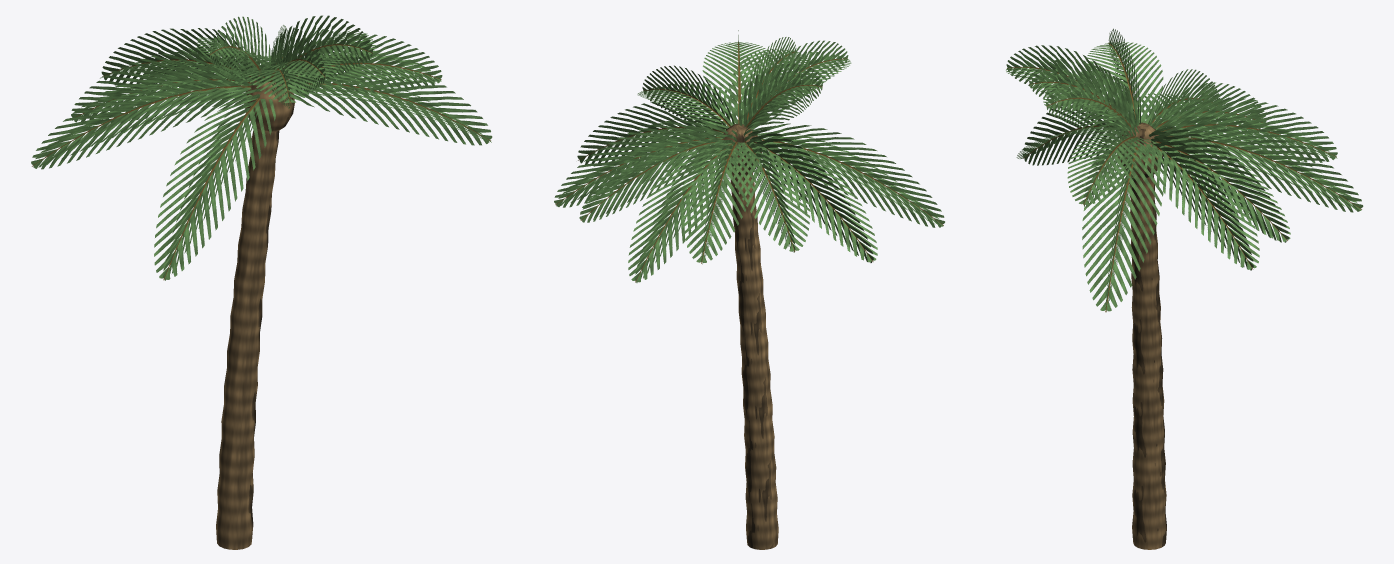
Rendered from SM_Desert_DatePalm_A.glb.
The picture shows the model from 3 angles, left to right: view 1: azimuth 30°, elevation 25°; view 2: azimuth 150°, elevation 25°; view 3: azimuth 270°, elevation 25°; orthographic projection. The views are drawn at different scales.
Parts seen in each view (by area): view 1: SM_Desert_DatePalm_A; view 2: SM_Desert_DatePalm_A; view 3: SM_Desert_DatePalm_A.
Part boxes in pixels (left/top/right/bottom): SM_Desert_DatePalm_A: left=31, top=15, right=492, bottom=549; SM_Desert_DatePalm_A: left=554, top=30, right=944, bottom=549; SM_Desert_DatePalm_A: left=1006, top=28, right=1363, bottom=549.
Size of the model in its own units: 7.77 by 9.45 by 6.56.
2 materials, 2 textured.
